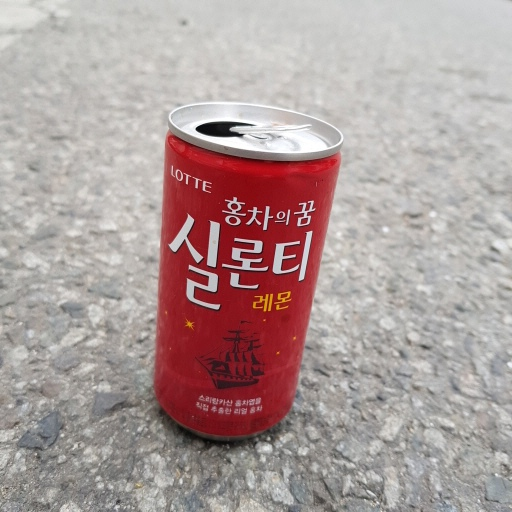Metal_0: (151, 99, 345, 441)
